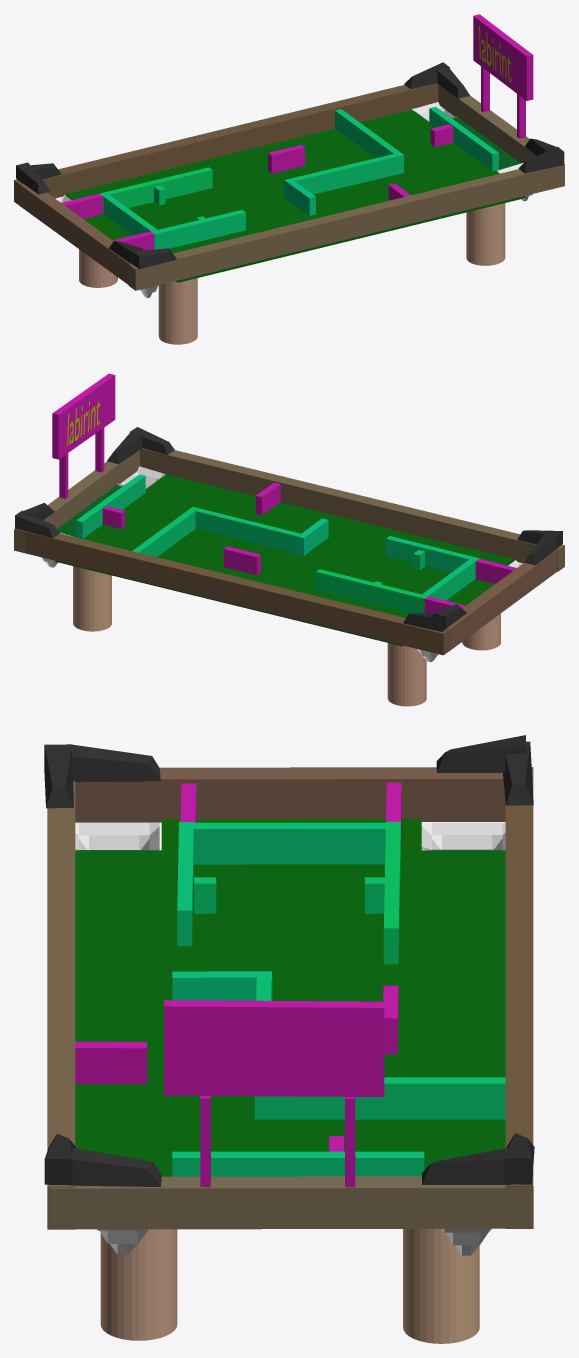
The model's file is tablelevel4fbx.fbx.
The picture shows the model from 3 angles, top to bottom: view 1: azimuth 30°, elevation 25°; view 2: azimuth 150°, elevation 25°; view 3: azimuth 270°, elevation 25°; orthographic projection. The views are drawn at different scales.
Parts seen in each view (by area): view 1: Cube, Cube.001, Cube.002, Cube.003, Cube.027, Cube.004, Cylinder.001, Cylinder.002, Cube.014, Cube.016, Cube.018, Cube.020 (+15 smaller); view 2: Cube, Cube.002, Cube.001, Cube.003, Cube.027, Cube.004, Cube.016, Cylinder.003, Cube.014, Cylinder, Cube.018, Cube.020 (+18 smaller); view 3: Cube, Cube.004, Cube.027, Cube.003, Cube.001, Cube.002, Cube.022, Cube.013, Cylinder.003, Cylinder.002, Cube.020, Cube.023 (+21 smaller).
Boxes of the visible parts, x1=… form: Cube: x1=65, y1=110, x2=525, y2=282; Cube.001: x1=128, y1=164, x2=564, y2=290; Cube.002: x1=14, y1=83, x2=438, y2=205; Cube.003: x1=20, y1=184, x2=130, y2=284; Cube.027: x1=473, y1=14, x2=533, y2=100; Cube.004: x1=438, y1=84, x2=564, y2=164; Cylinder.001: x1=158, y1=278, x2=197, y2=344; Cylinder.002: x1=466, y1=203, x2=505, y2=265; Cube.014: x1=291, y1=154, x2=403, y2=194; Cube.016: x1=99, y1=167, x2=212, y2=213; Cube.018: x1=151, y1=210, x2=245, y2=249; Cube.020: x1=429, y1=106, x2=498, y2=171; Cube: x1=55, y1=474, x2=513, y2=646; Cube.002: x1=14, y1=528, x2=450, y2=655; Cube.001: x1=140, y1=448, x2=564, y2=571; Cube.003: x1=448, y1=549, x2=557, y2=650; Cube.027: x1=52, y1=373, x2=115, y2=459; Cube.004: x1=14, y1=450, x2=139, y2=553; Cube.016: x1=316, y1=569, x2=427, y2=613; Cylinder.003: x1=73, y1=566, x2=111, y2=631; Cube.014: x1=193, y1=507, x2=301, y2=554; Cylinder: x1=387, y1=643, x2=426, y2=706; Cube.018: x1=386, y1=536, x2=479, y2=572; Cube.020: x1=76, y1=474, x2=145, y2=538; Cube: x1=75, y1=850, x2=505, y2=1176; Cube.004: x1=50, y1=1176, x2=533, y2=1229; Cube.027: x1=164, y1=1000, x2=384, y2=1096; Cube.003: x1=75, y1=767, x2=505, y2=822; Cube.001: x1=47, y1=781, x2=75, y2=1229; Cube.002: x1=505, y1=767, x2=533, y2=1228; Cube.022: x1=193, y1=822, x2=385, y2=864; Cube.013: x1=256, y1=1077, x2=505, y2=1119; Cylinder.003: x1=403, y1=1229, x2=479, y2=1343; Cylinder.002: x1=100, y1=1229, x2=177, y2=1340; Cube.020: x1=172, y1=1151, x2=424, y2=1176; Cube.023: x1=75, y1=1041, x2=147, y2=1084.
Size of the model in its own units: 173 by 71.45 by 85.15.
